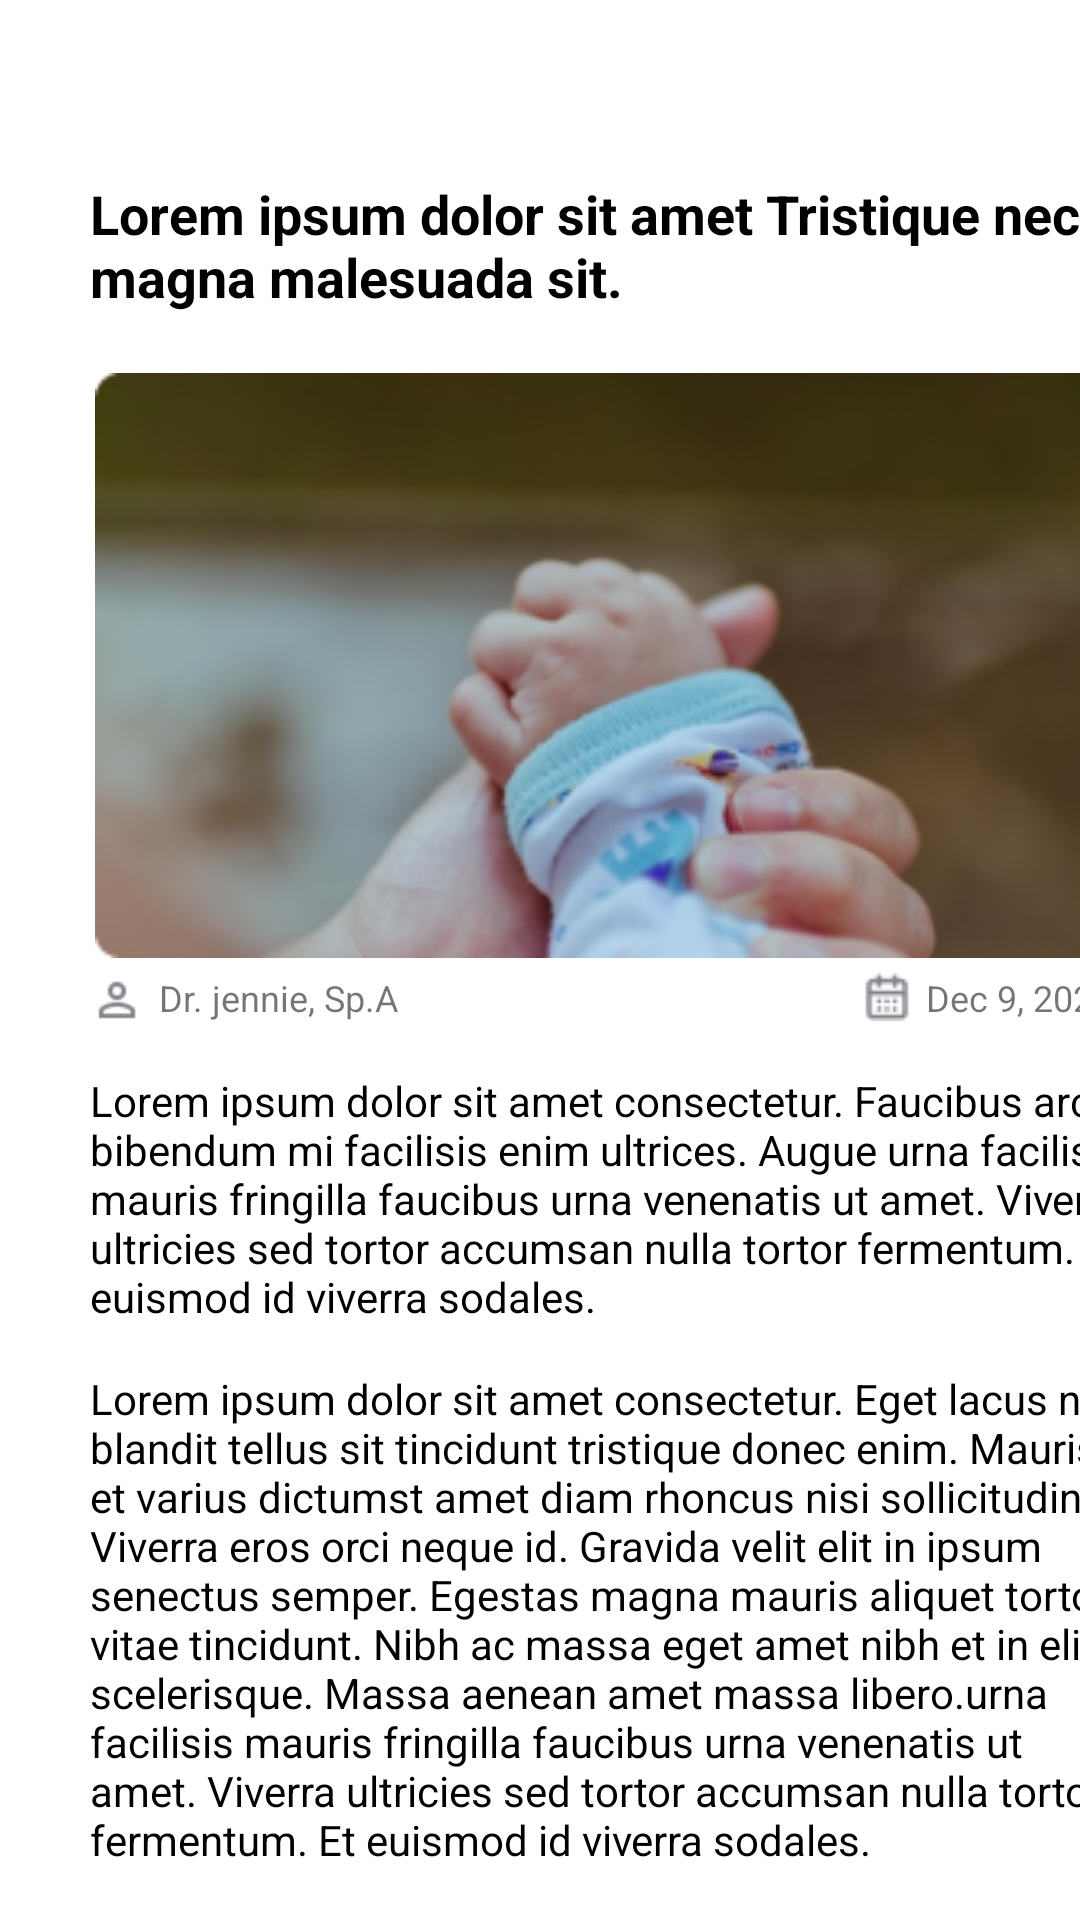

Icon bounding boxes for this 1080 × 1920 phone screenshot, format (x1, y1, x2, y2):
acc: (98, 981, 136, 1019)
calendar: (865, 973, 909, 1021)
